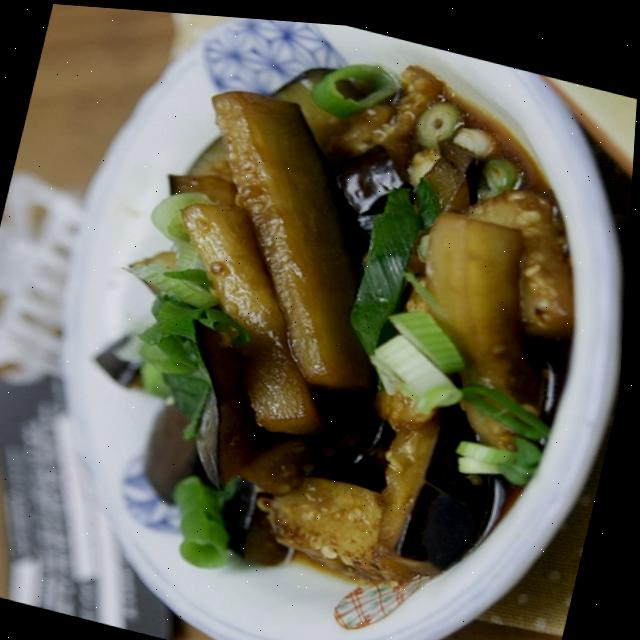蔬菜料理: (8, 2, 640, 640)
